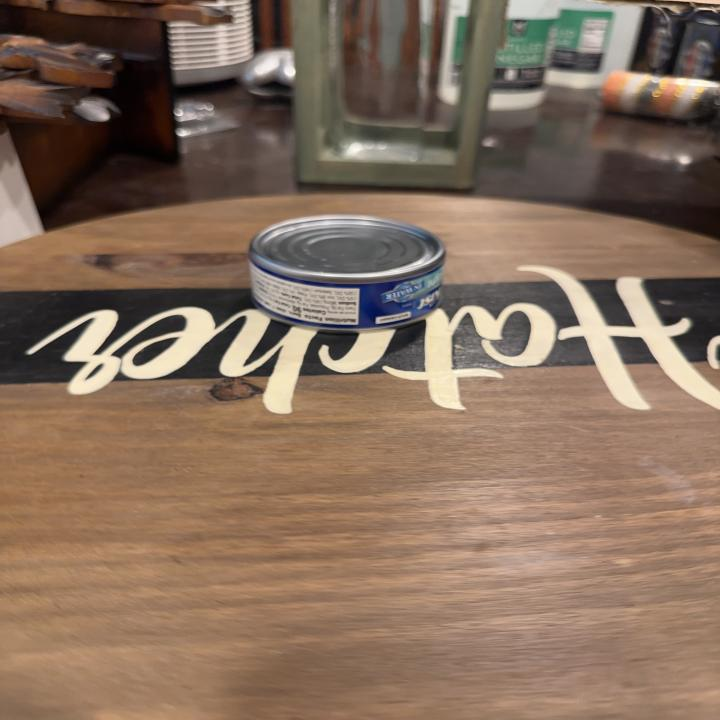Canned-Tuna: (252, 214, 446, 332)
